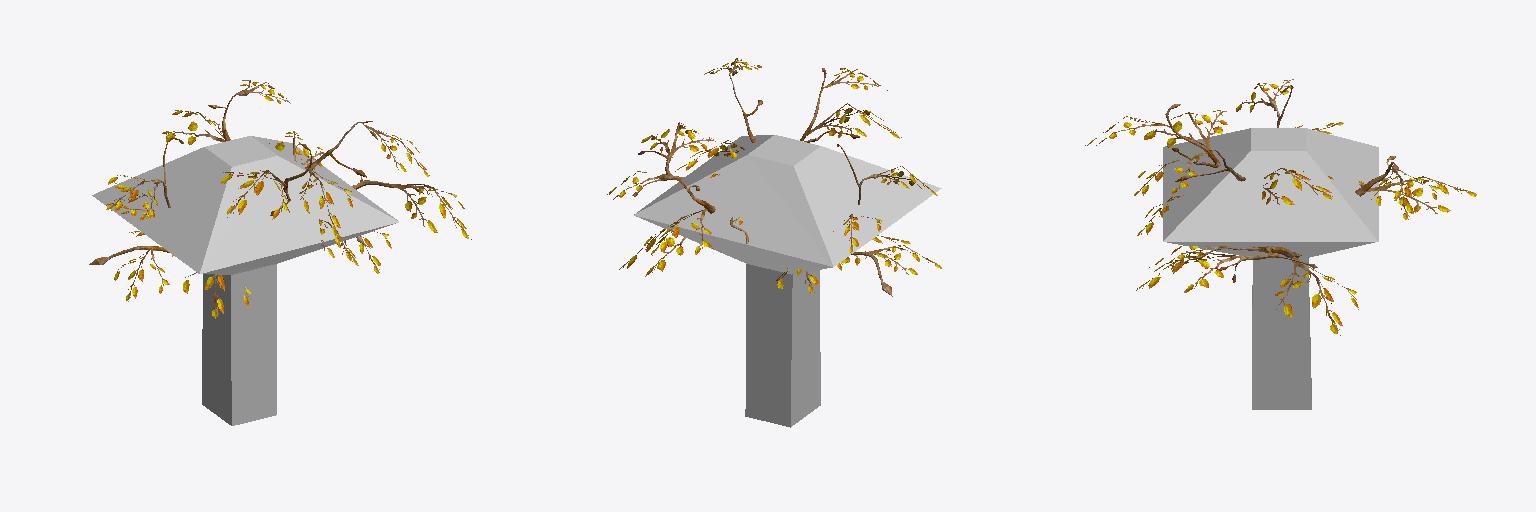
3 renders of one model, left to right at view 1: azimuth 30°, elevation 25°; view 2: azimuth 150°, elevation 25°; view 3: azimuth 270°, elevation 25°, orthographic.
Bounding box in the file's own units: 7.83 × 6.63 × 8.53.
3 materials, 2 textured.